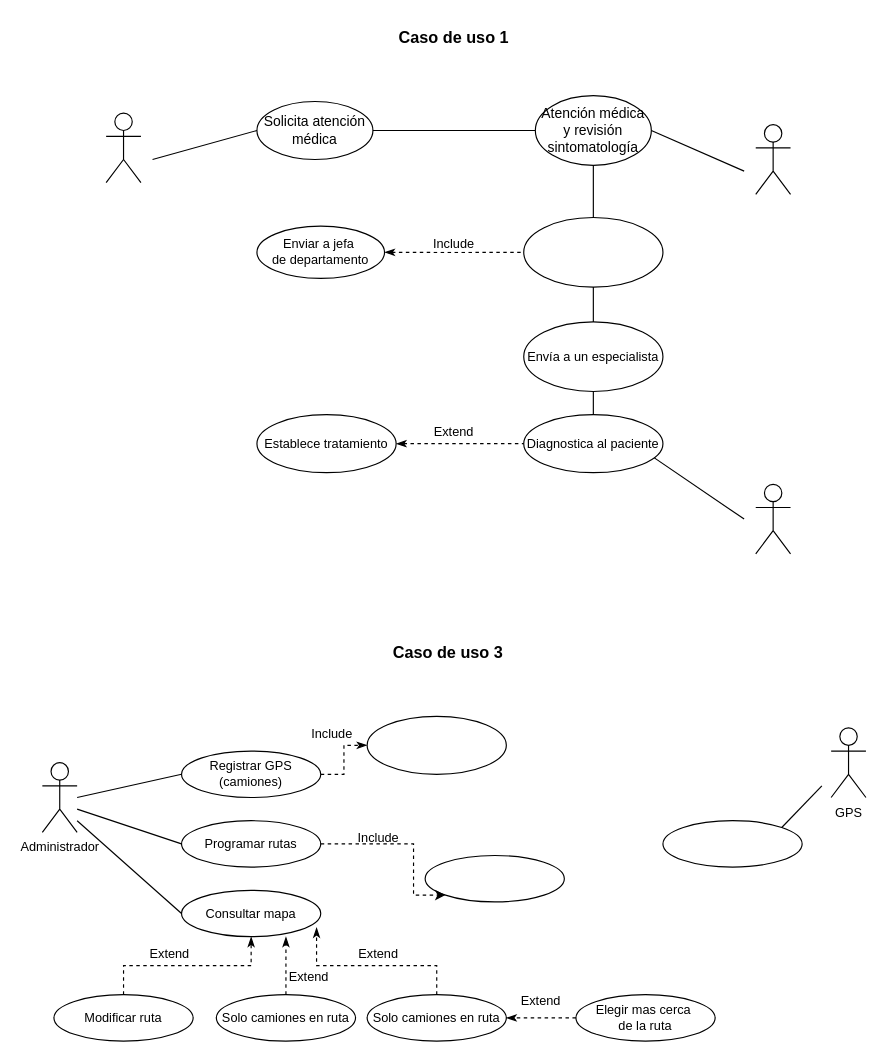
Image size: 886x1061. Some labels were removed from this diagram. The centre of each missing label's shape, as x and y in pixels:
Asignar nombre con matricula: point (436, 744)
Doctor: point (773, 518)
Enfermero: point (773, 159)
Enviar posición: point (732, 843)
Fijar horarios: point (494, 878)
Paciente: point (123, 147)
Realizar un informe: point (593, 251)
